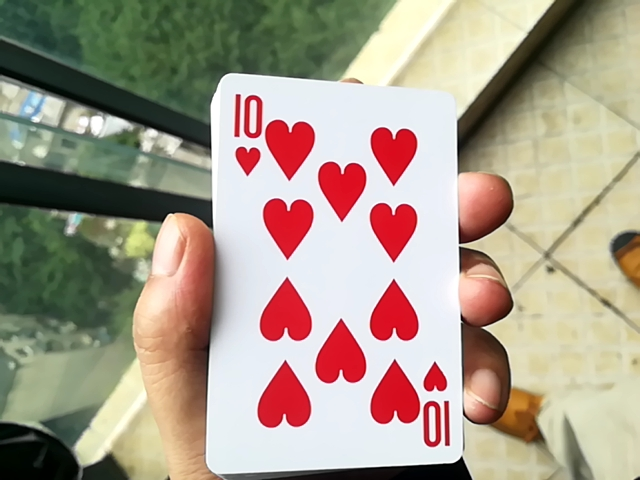hx 10: (198, 60, 454, 471)
